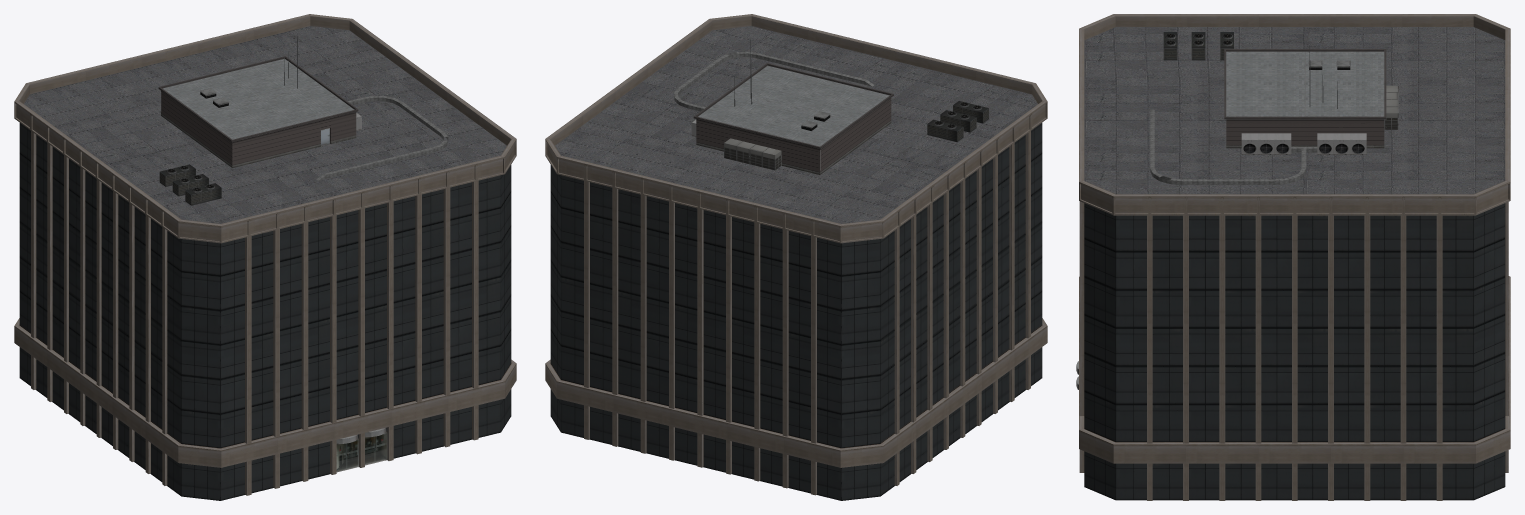
The model's file is AIT01W2W8.FBX.
3 renders of one model, left to right at view 1: azimuth 30°, elevation 25°; view 2: azimuth 150°, elevation 25°; view 3: azimuth 270°, elevation 25°, orthographic. The views are drawn at different scales.
Parts seen in each view (by area): view 1: AIT01W2W8; view 2: AIT01W2W8; view 3: AIT01W2W8.
Boxes of the visible parts, left/top/right/bottom form: AIT01W2W8: left=14, top=14, right=516, bottom=500; AIT01W2W8: left=545, top=14, right=1047, bottom=500; AIT01W2W8: left=1076, top=14, right=1510, bottom=500.
Bounding box in the file's own units: 3280 × 3273 × 3300.
